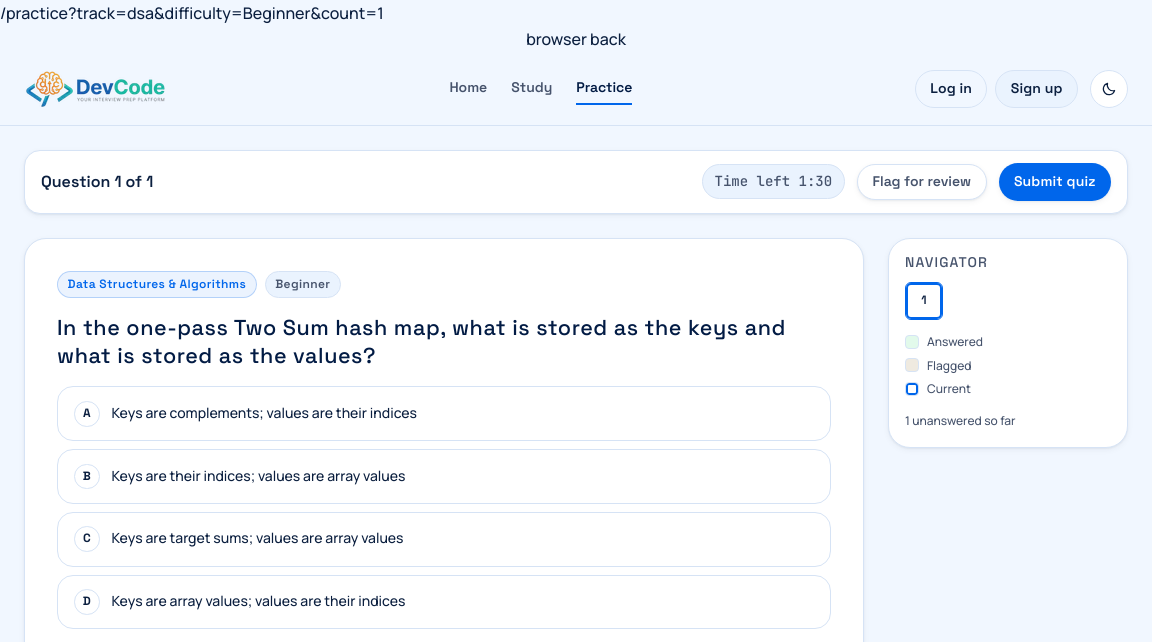
it: AI coach → Study hub → back to Results › keeps the expanded coach sections after returning
The image size is (1152, 642).
Expected: the text "Question 1 of 1" is shown, [41,168,153,195]
Click the button "A Keys are complements; values are their indices".
click(264, 412)  # box [57,386,831,441]
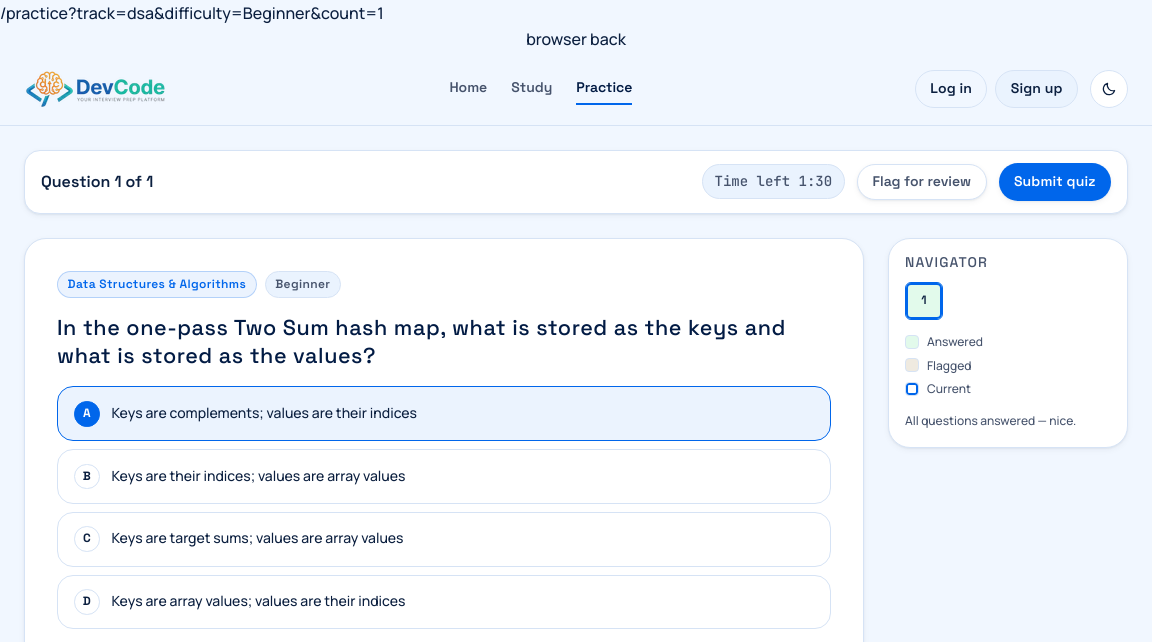
Click the button "Submit quiz".
click(1055, 182)  # box [998,163,1111,201]
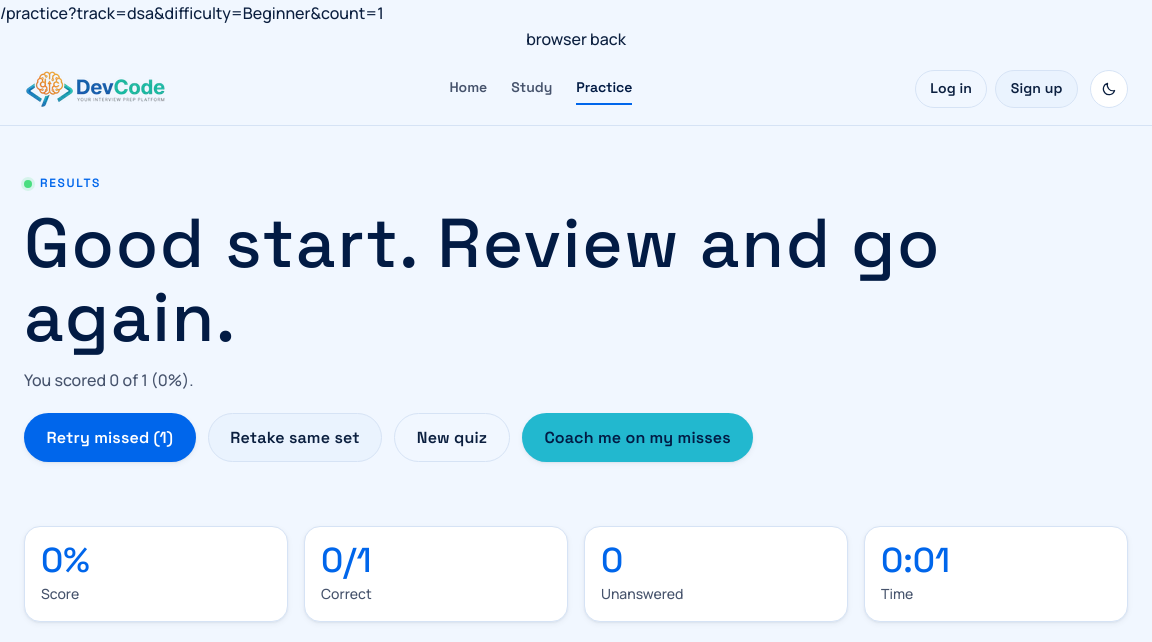
Result: the button "Coach me on my misses" is shown
Click the button "Coach me on my misses".
click(638, 438)  # box [522,413,754,462]
(page scrolled)
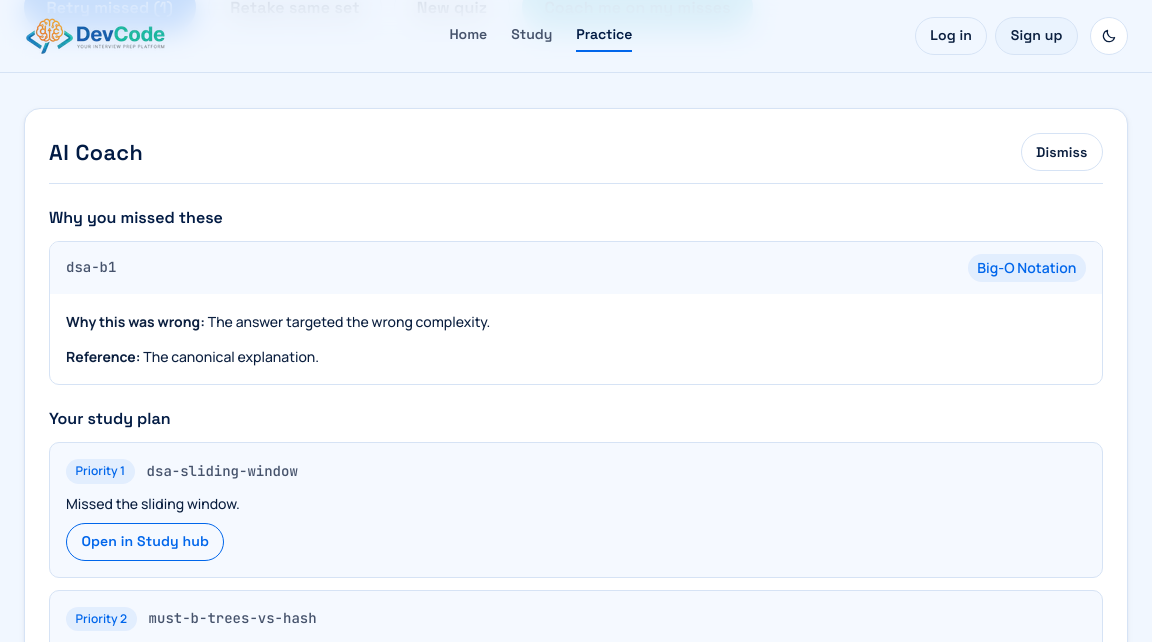
Result: the heading "Why you missed these" is shown at [49,207,223,228]
Click the link "Open in Study hub" below "dsa-sliding-window".
click(145, 542)  # box [66,523,224,560]
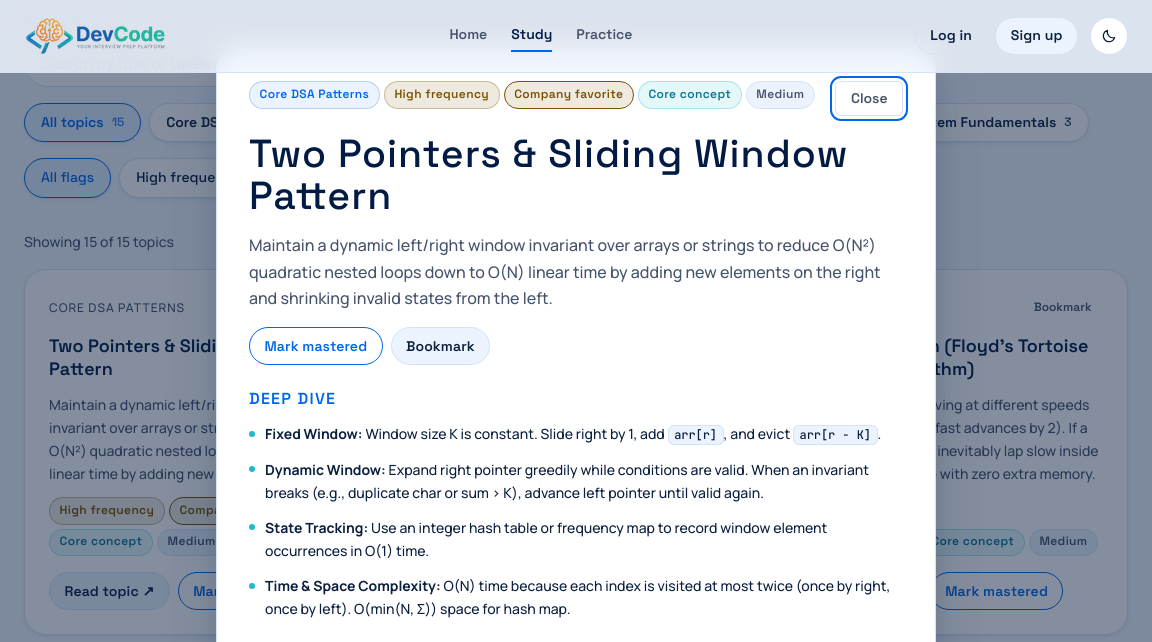
Click the button with aria-label "Close topic".
click(869, 98)  # box [836,81,903,116]
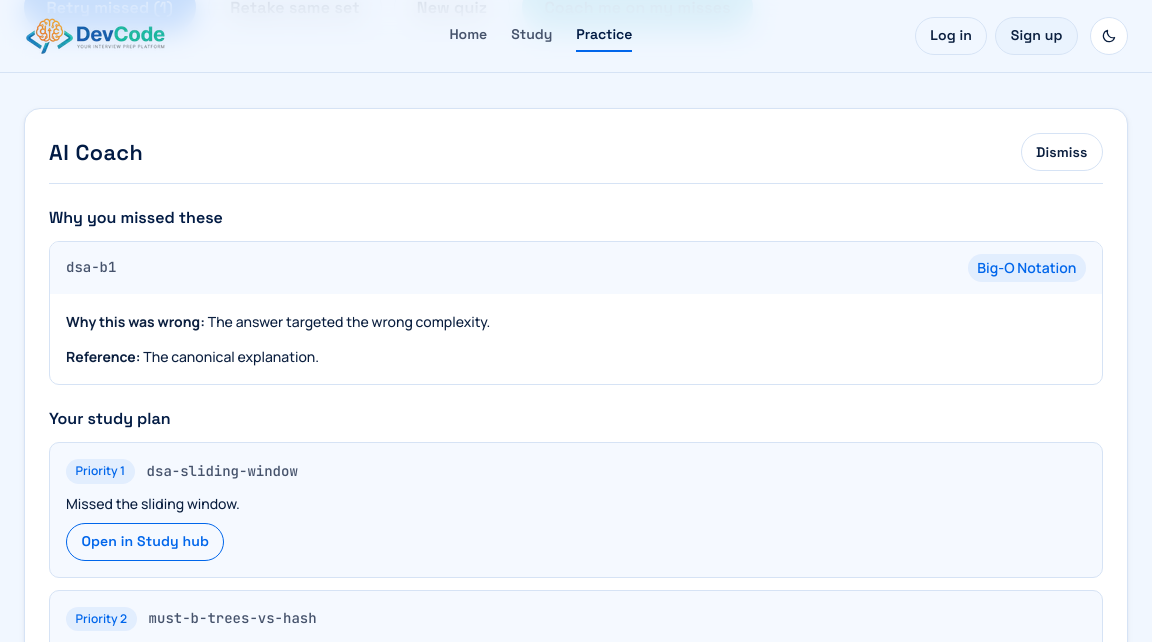
Result: the heading "Why you missed these" is shown at [49,207,223,228]
